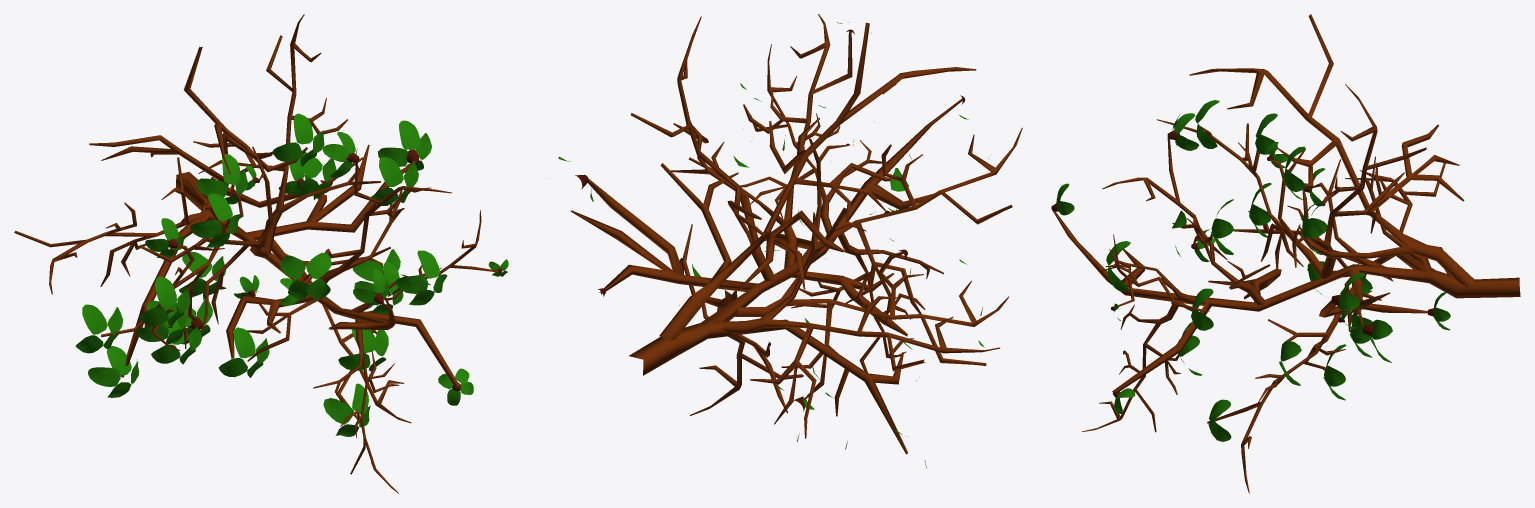
Rendered from Krystbush_noberries.gltf.
3 renders of one model, left to right at view 1: azimuth 30°, elevation 25°; view 2: azimuth 150°, elevation 25°; view 3: azimuth 270°, elevation 25°, orthographic. The views are drawn at different scales.
Visible parts, largest first — view 1: Krystberry_Withberries.006; view 2: Krystberry_Withberries.006; view 3: Krystberry_Withberries.006.
Part boxes in pixels (box(x1,y1,x2,y2)): Krystberry_Withberries.006: box(14, 14, 508, 493); Krystberry_Withberries.006: box(558, 14, 1022, 468); Krystberry_Withberries.006: box(1051, 14, 1520, 493).
Size of the model in its own units: 110 by 109 by 118.
